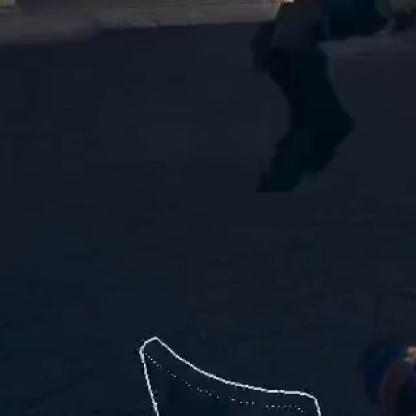enemy: (234, 1, 413, 194)
